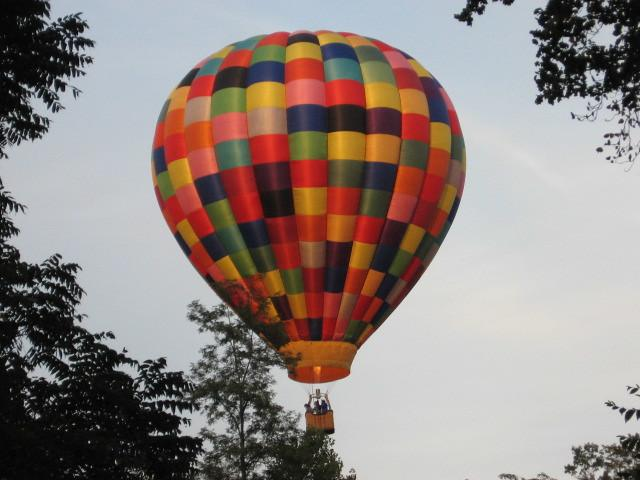balloon: (154, 30, 468, 438)
